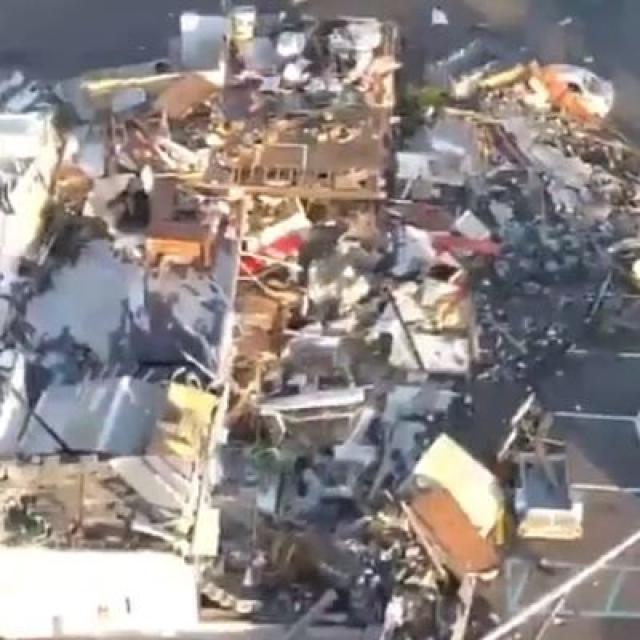collapsed_building: (205, 202, 450, 618), (402, 56, 635, 288)
